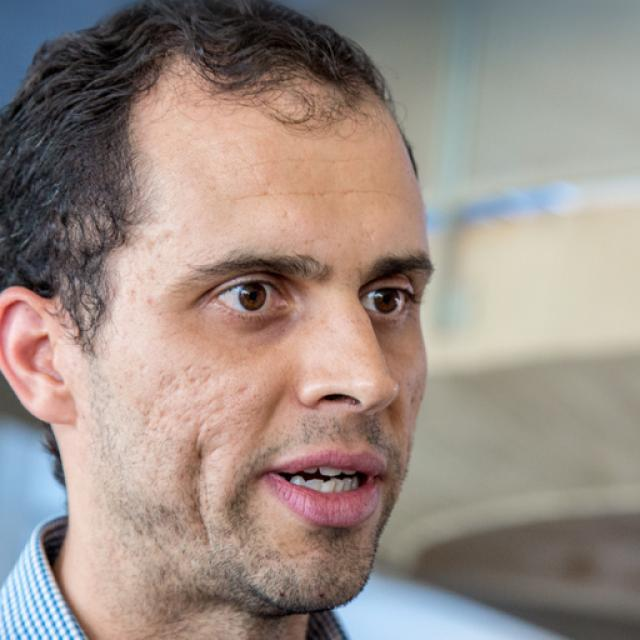Wrinkle: (241, 185, 403, 204), (234, 156, 392, 172)
